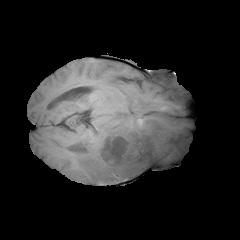glioma: (71, 110, 171, 184)
